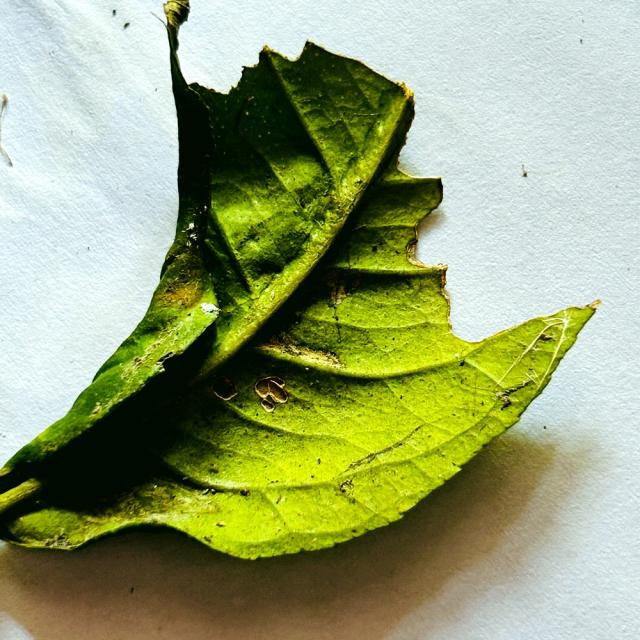Deficiency Leaf: (195, 3, 573, 337)
Lemon: (0, 0, 596, 559)
